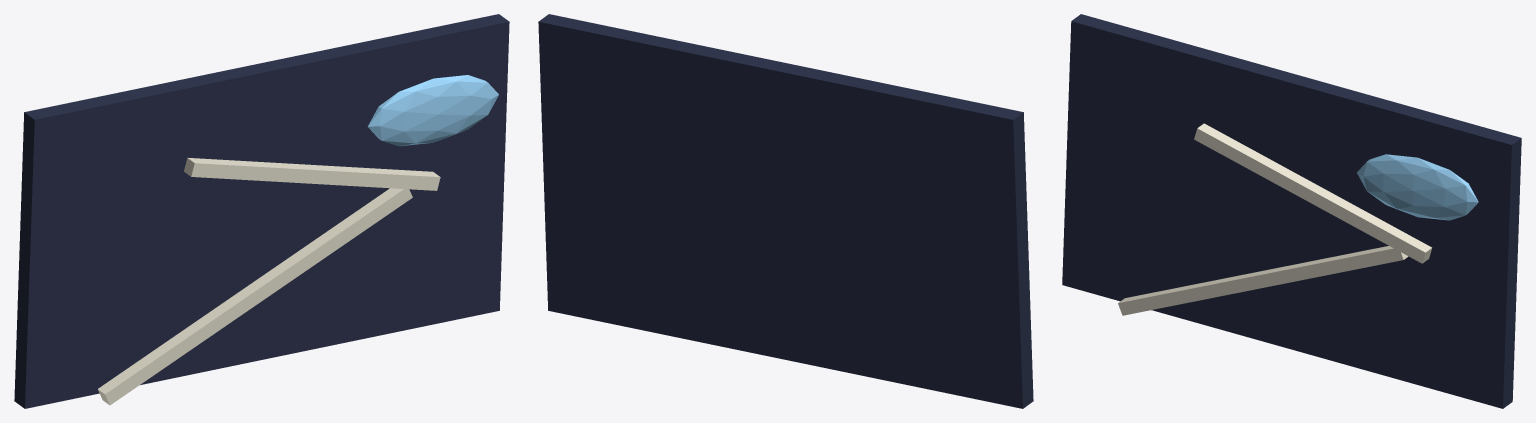
File: 04_weathering_wear_overlay_4.glb
3 views of the same model, side by side, from view 1: azimuth 30°, elevation 25°; view 2: azimuth 150°, elevation 25°; view 3: azimuth 330°, elevation 25° (orthographic). The views are drawn at different scales.
Parts seen in each view (by area): view 1: wear_plate, scratch_a, rust_or_moss_spot, scratch_b; view 2: wear_plate; view 3: wear_plate, rust_or_moss_spot, scratch_b, scratch_a.
Part boxes in pixels (x1,y1,x2,y2): wear_plate: (14,14,509,408); scratch_a: (98,188,412,405); rust_or_moss_spot: (367,75,498,146); scratch_b: (184,157,440,190); wear_plate: (538,14,1033,408); wear_plate: (1062,14,1521,408); rust_or_moss_spot: (1357,154,1478,220); scratch_b: (1194,123,1431,263); scratch_a: (1118,246,1408,315).
Size of the model in its own units: 1.33 by 0.7957 by 0.134.
